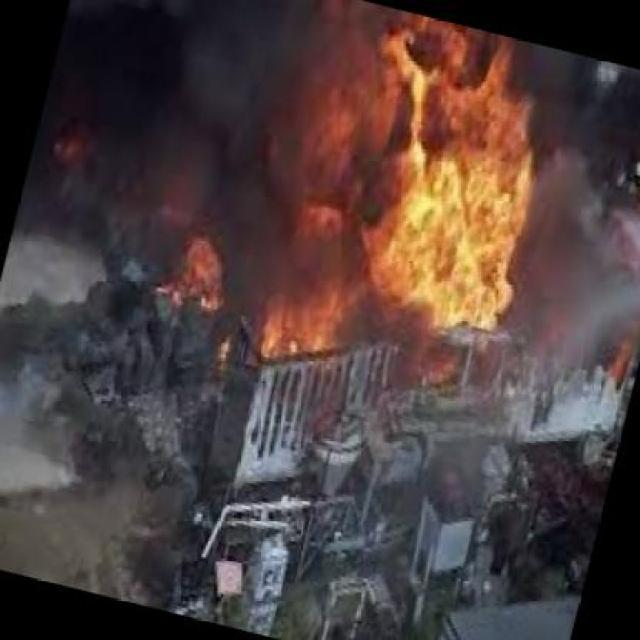Fire: (282, 28, 538, 359), (181, 236, 226, 316)
Smoke: (64, 10, 306, 236), (530, 54, 640, 344)
